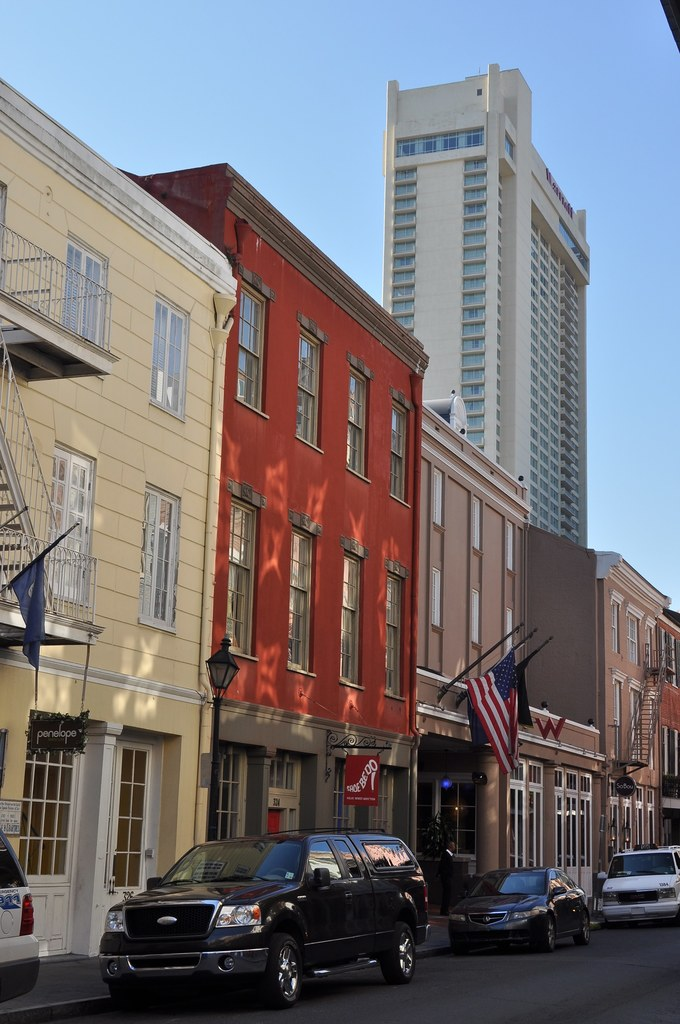Car: (97, 826, 432, 1001), (446, 863, 594, 963), (0, 832, 48, 1001), (598, 844, 679, 922)
